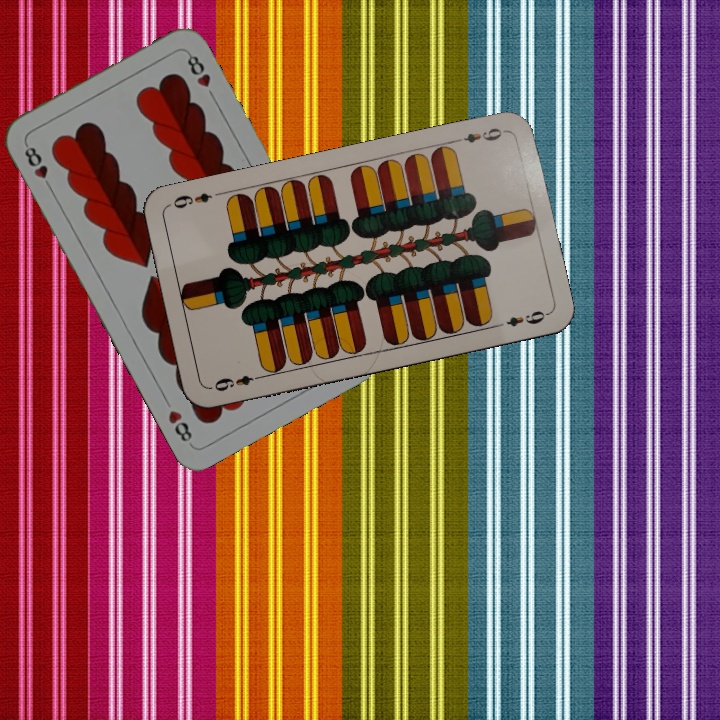E9: (207, 371, 266, 394), (450, 123, 509, 146)
H8: (20, 139, 56, 193)
